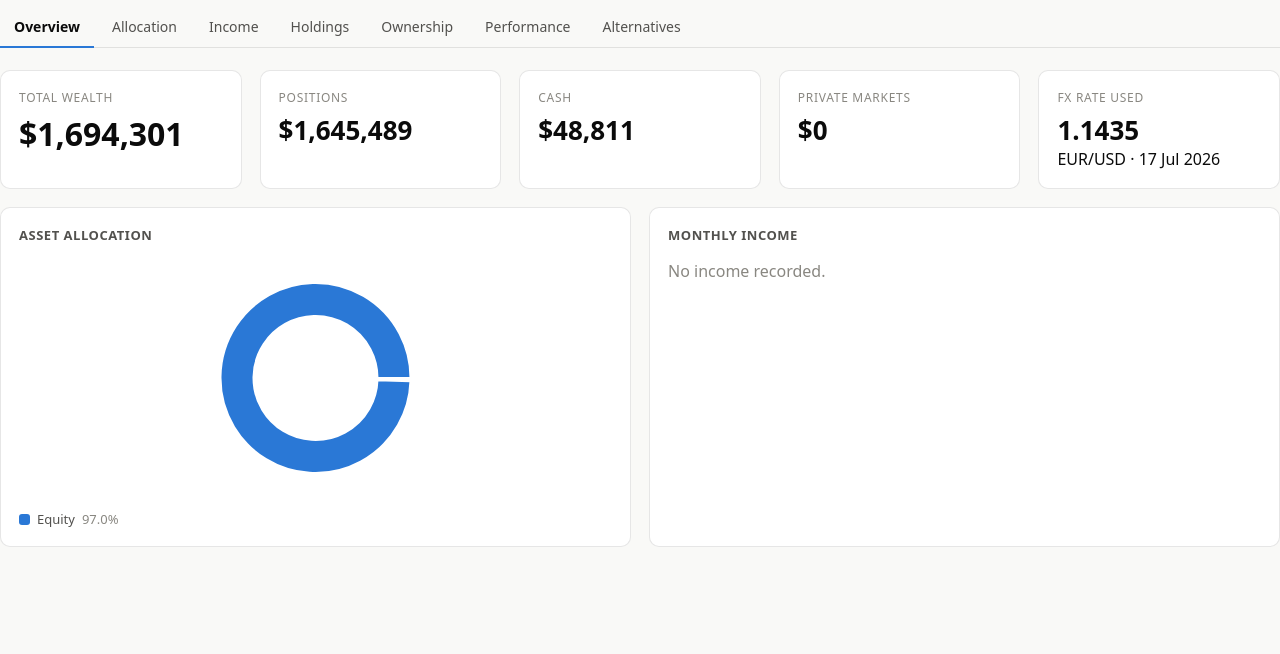
it: ClientDashboard › discloses a book restatement so the wealth step reconciles (D-070)
What coordinates should you click on to do the following:
click the tab "Performance"
I would click on:
 (528, 28)
Its box is [471,7,584,48].
(page scrolled)
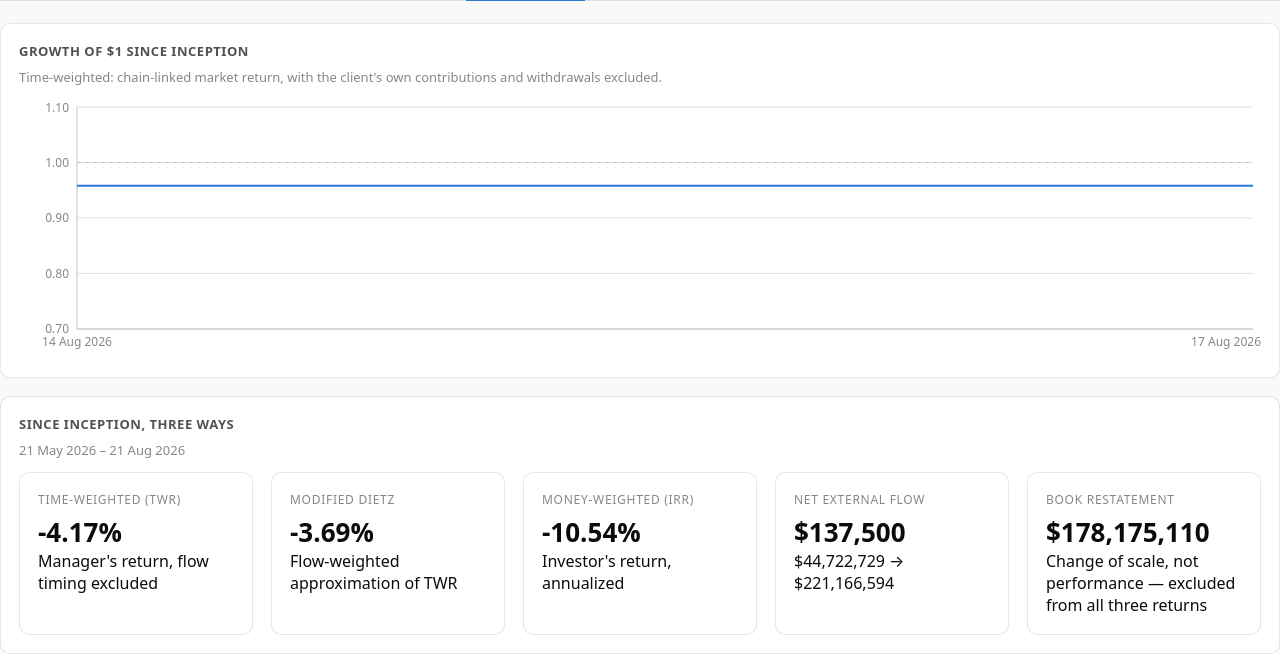
Expected: the text "Book restatement" is shown, [1046,491,1175,508]
Expected: the text "$178,175,110" is shown, [1046,514,1210,550]
Expected: the text "Change of scale, not performance" is shown, [1046,550,1235,616]
